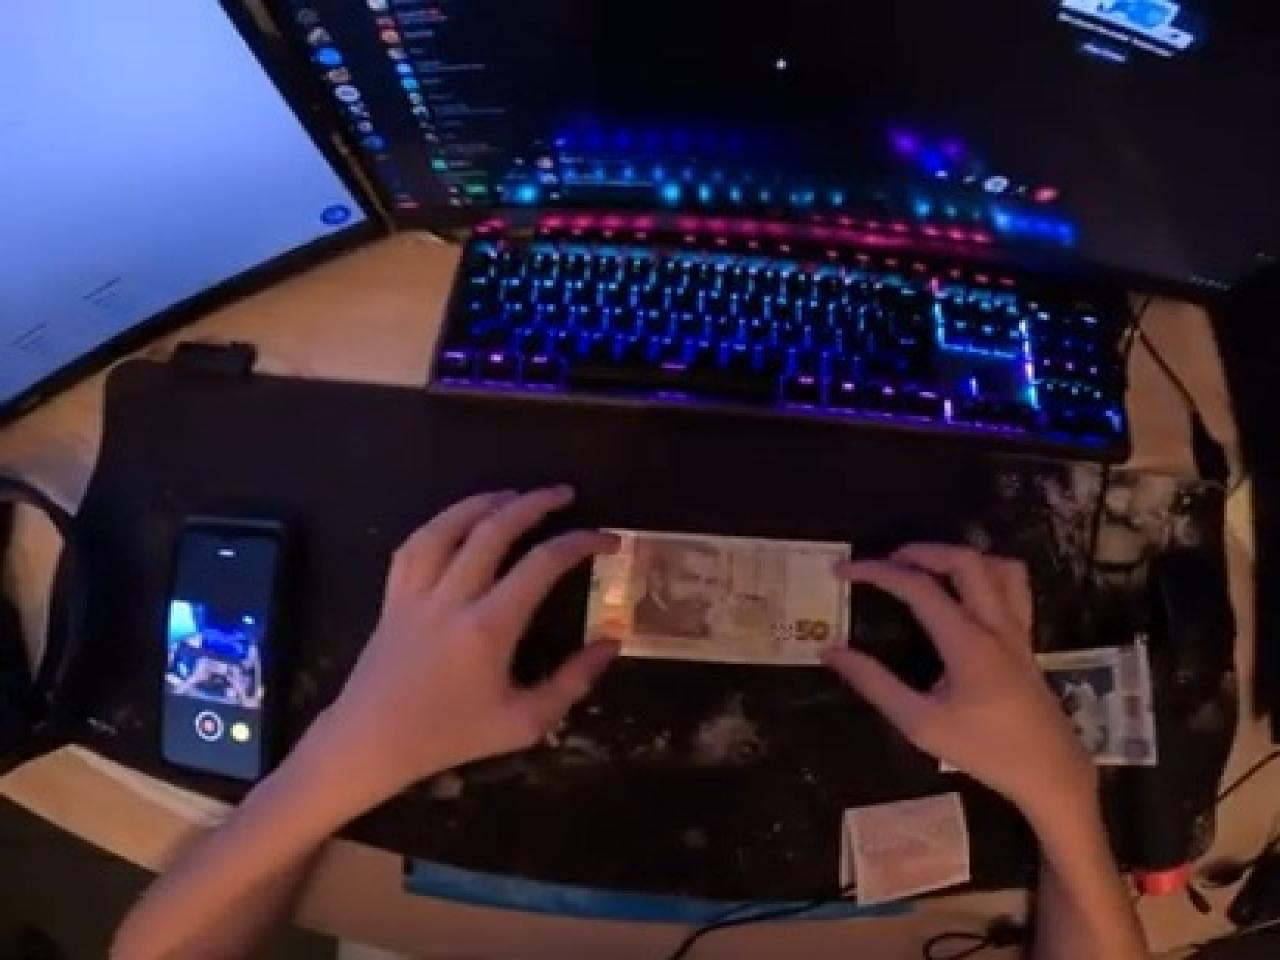50leva: (585, 530, 845, 670)
